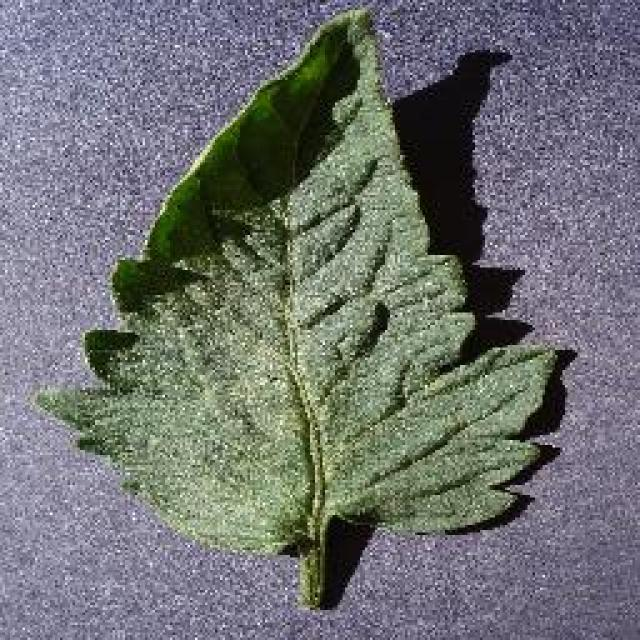Tomato___healthy: (26, 2, 569, 619)
